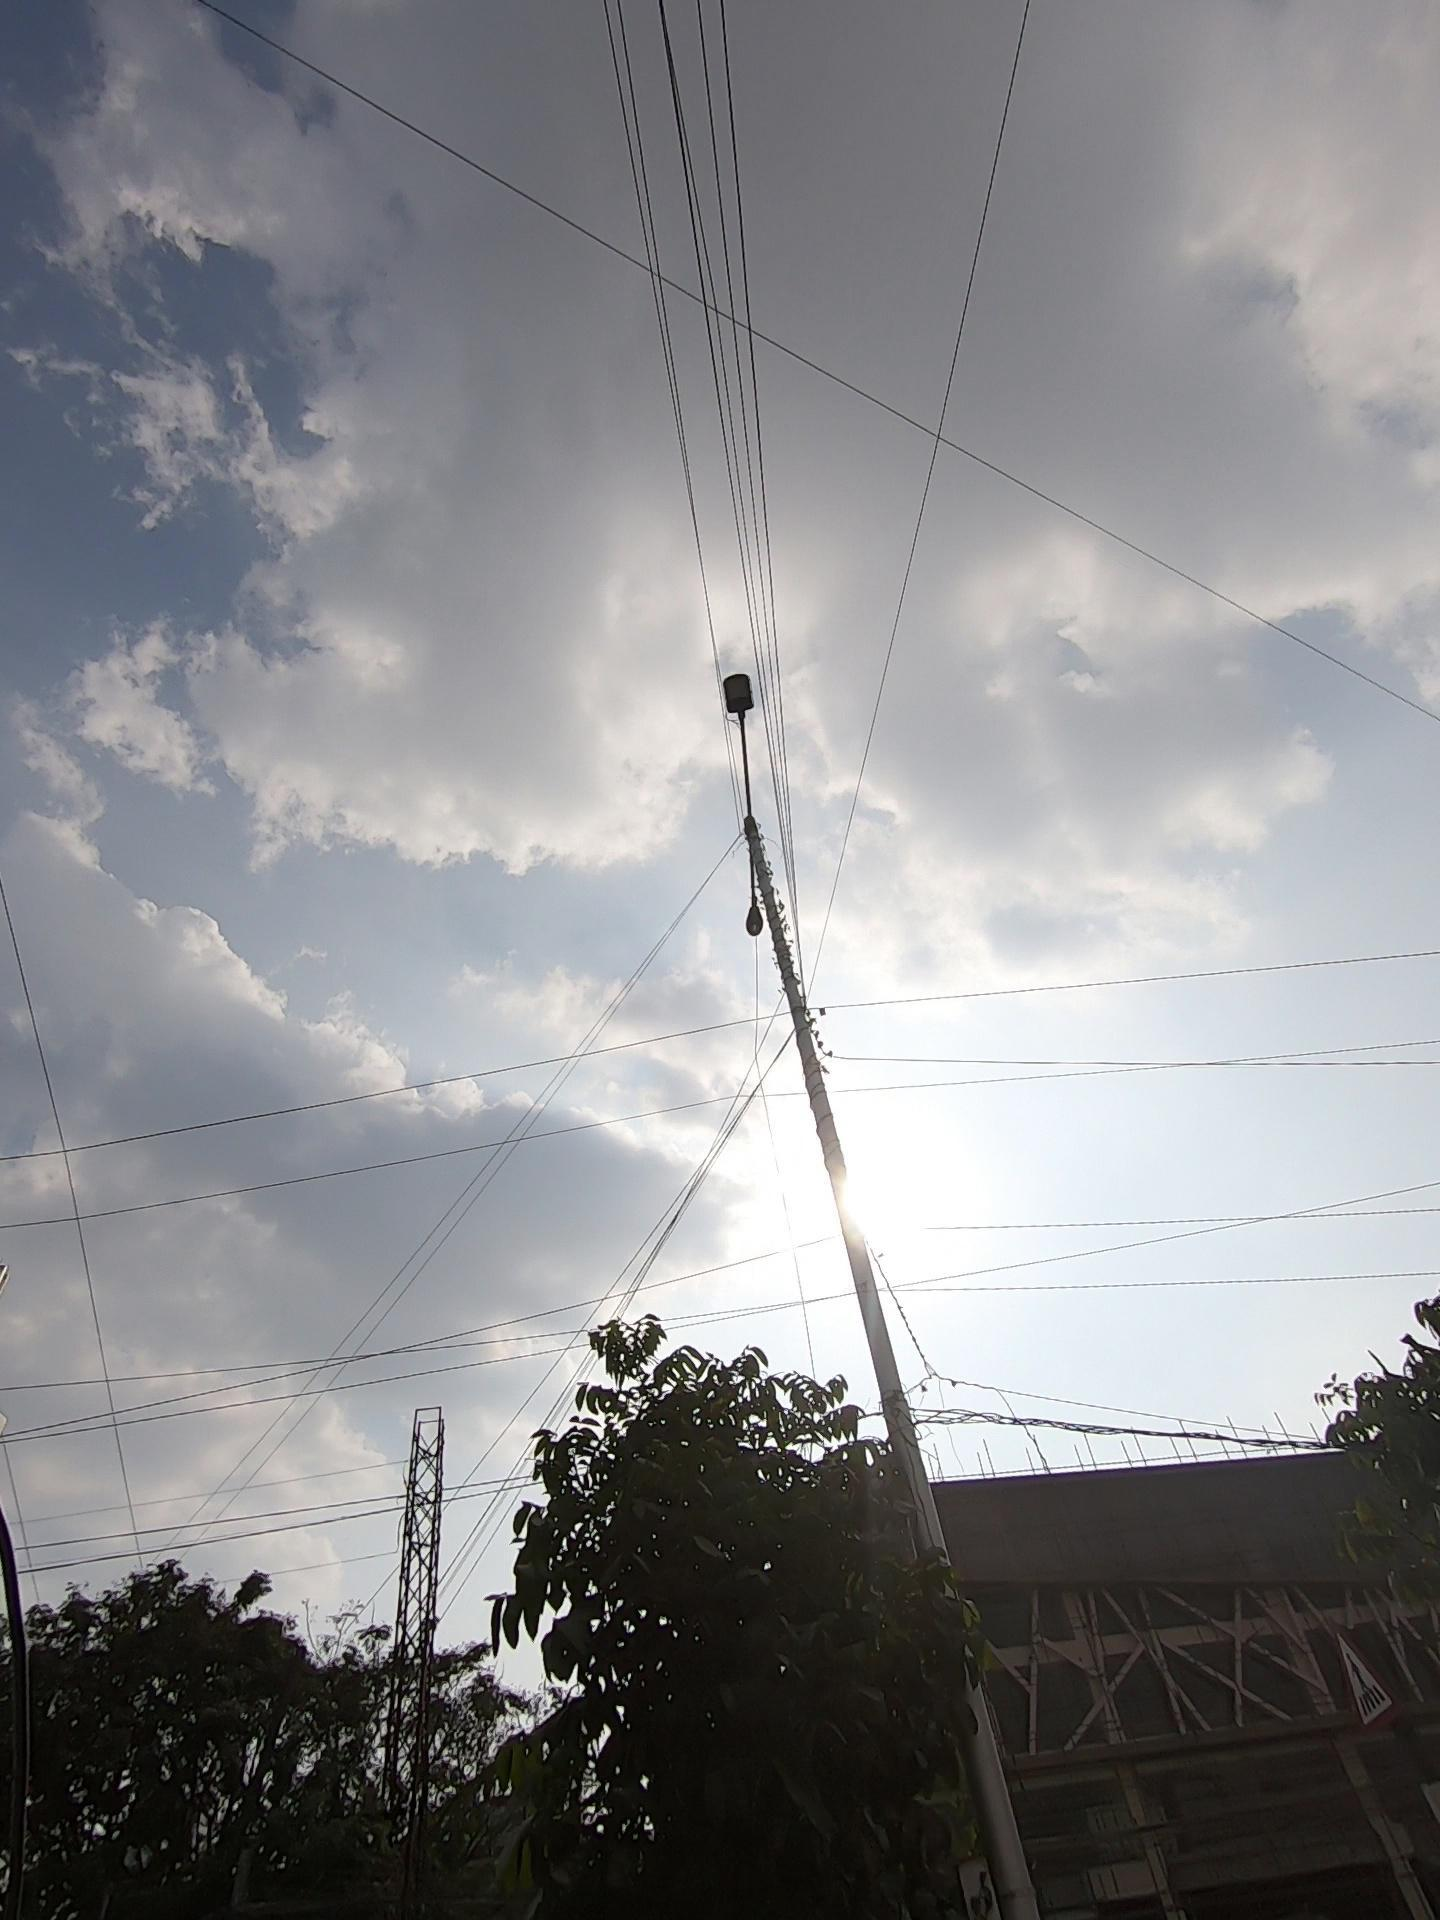off: (659, 636, 847, 1011)
